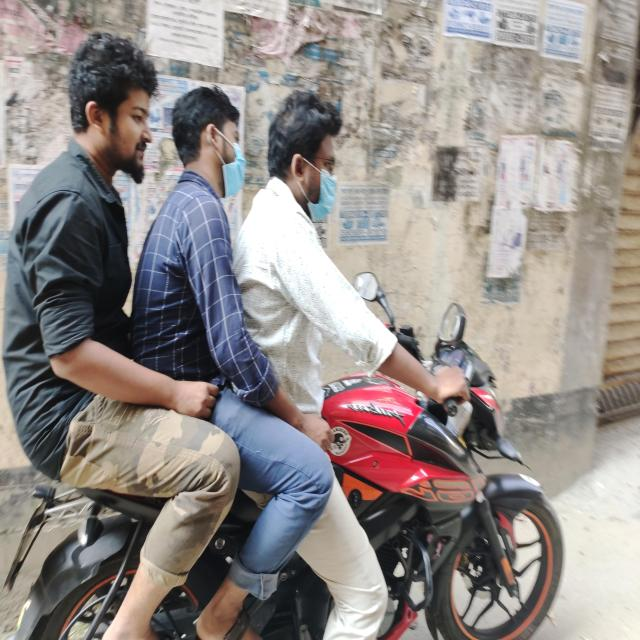triple_rider: (5, 28, 562, 640)
